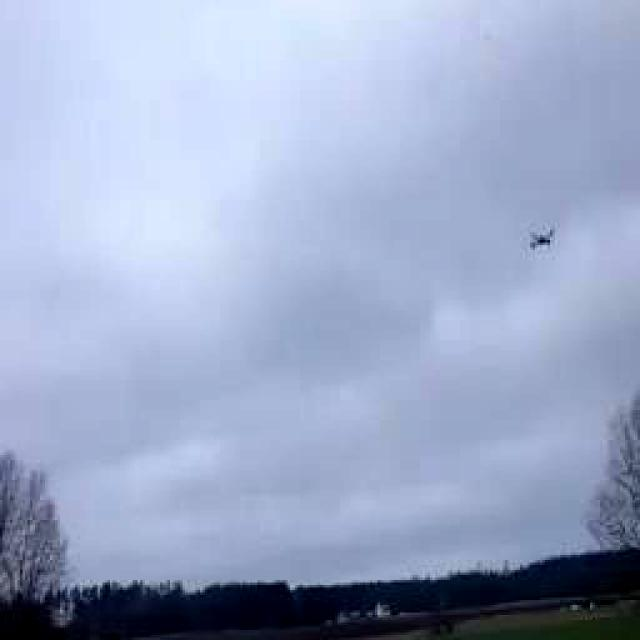bird: (520, 211, 565, 266)
